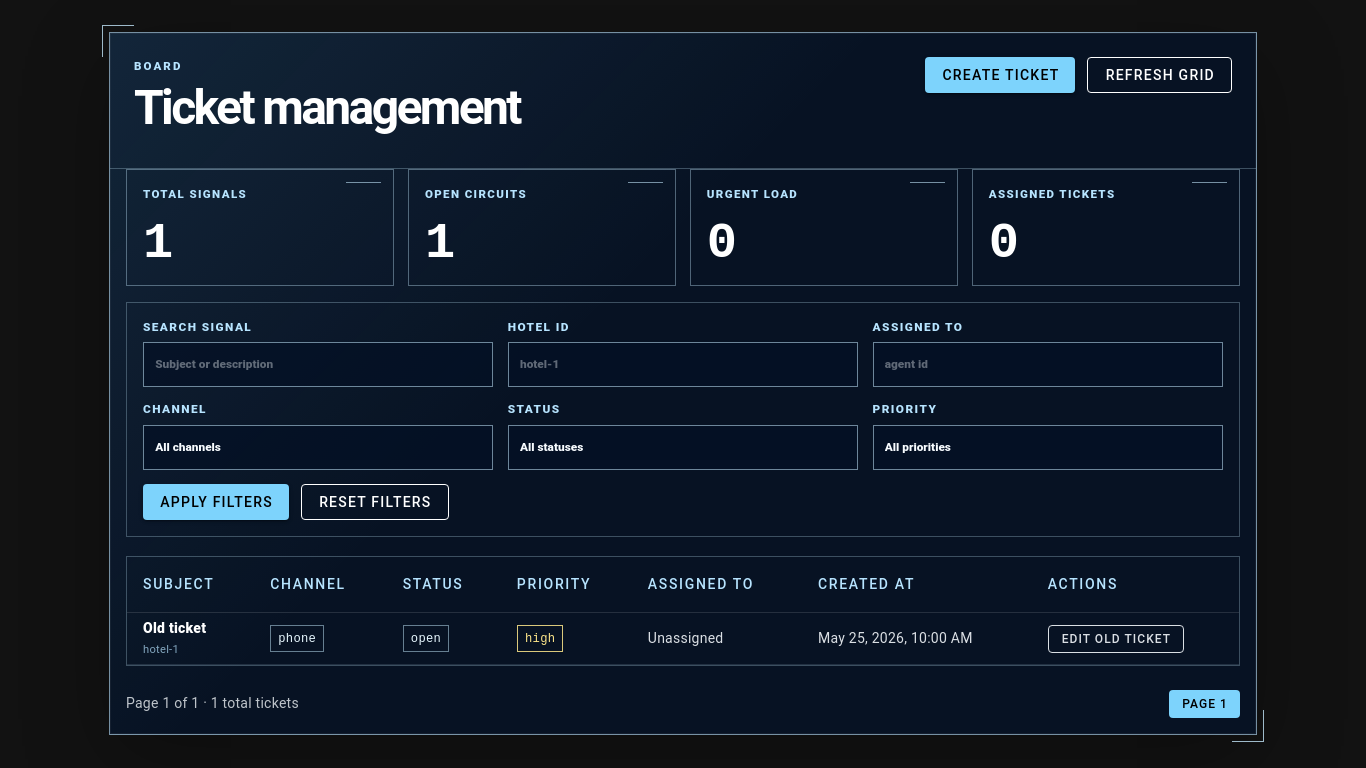
Test case: TicketListView › shows an empty state and no stale rows when the API returns no tickets
Select "open" in the dropdown named "Status filter". click: (683, 447)
box: [508, 425, 858, 470]
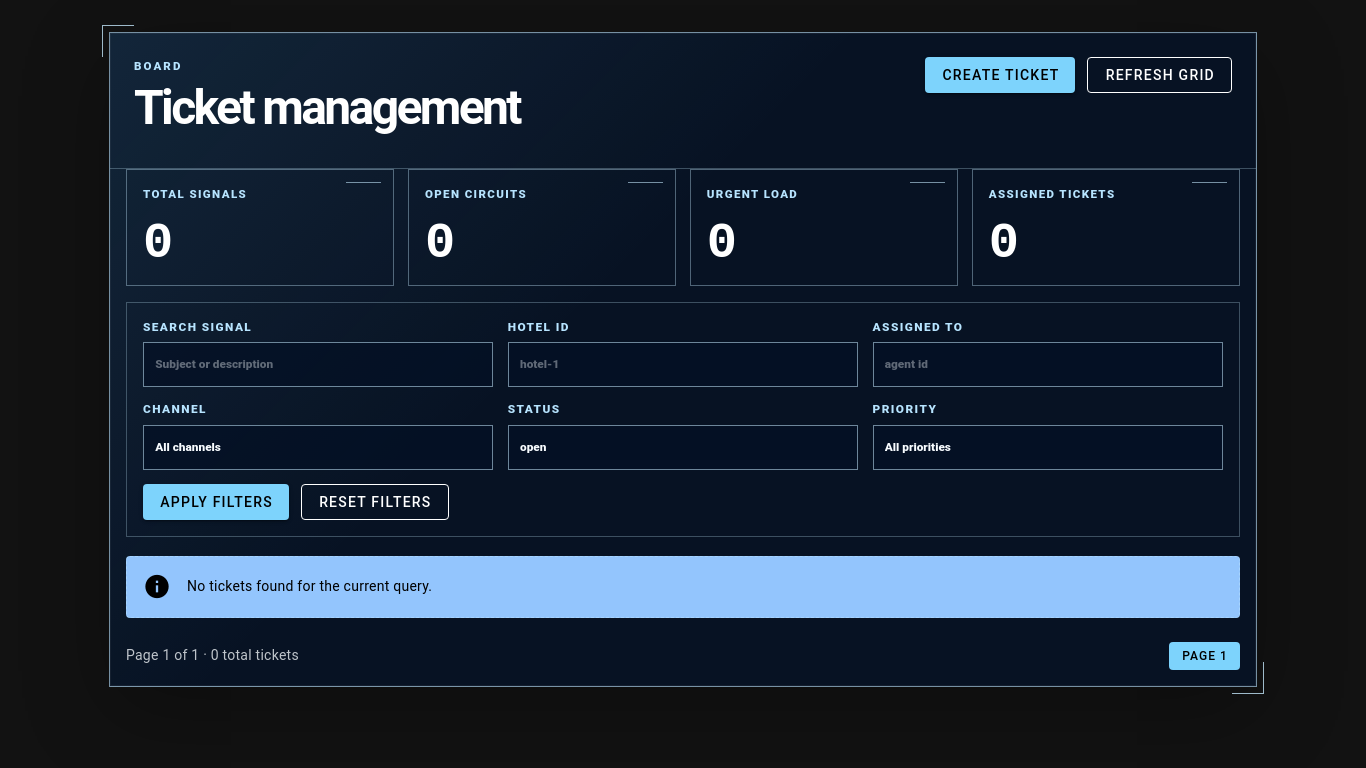
Expected: the text "No tickets found for the current query." is shown, [187, 578, 432, 594]
Expected: the text "Old ticket" is gone
